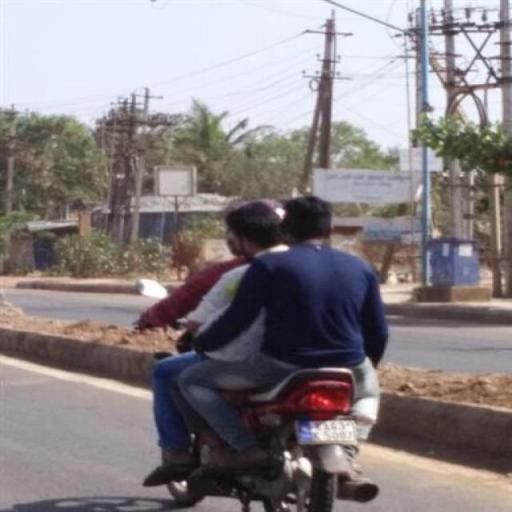tripple riding: (128, 190, 408, 372)
